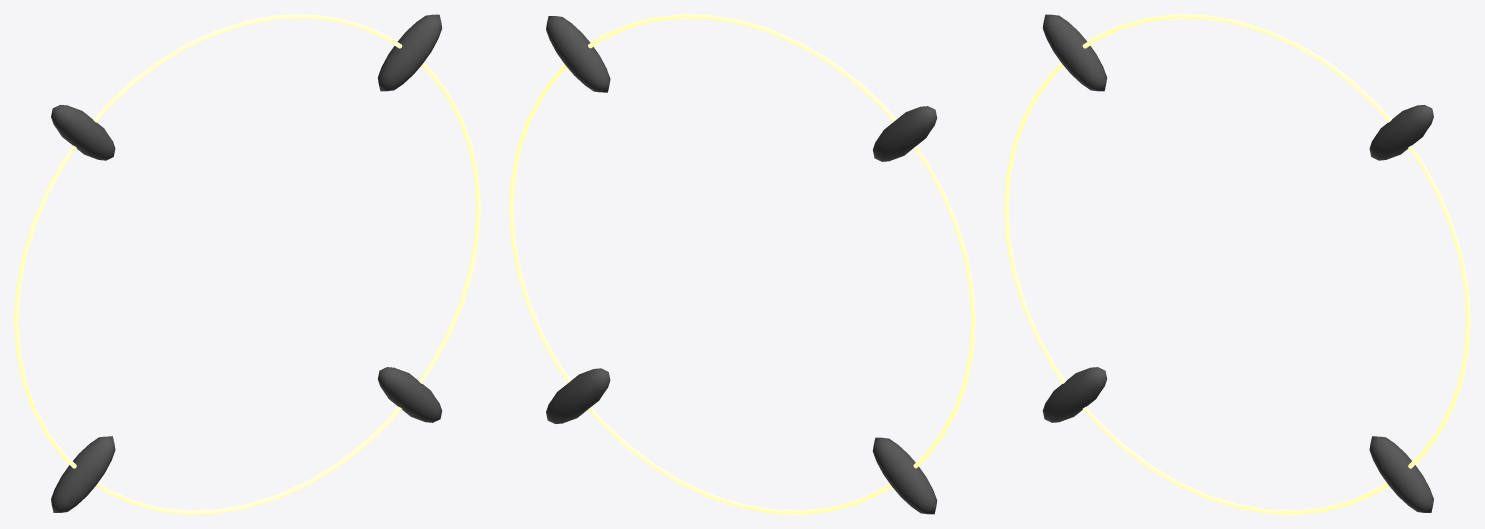
File: Ring.fbx
3 renders of one model, left to right at view 1: azimuth 30°, elevation 25°; view 2: azimuth 150°, elevation 25°; view 3: azimuth 330°, elevation 25°, orthographic.
Parts seen in each view (by area): view 1: Torus.001; view 2: Torus.001; view 3: Torus.001.
Part boxes in pixels (box(x1,y1,x2,y2)): Torus.001: box(14, 14, 480, 514); Torus.001: box(509, 14, 975, 514); Torus.001: box(1004, 14, 1470, 514).
Size of the model in its own units: 2746 by 2746 by 169.
